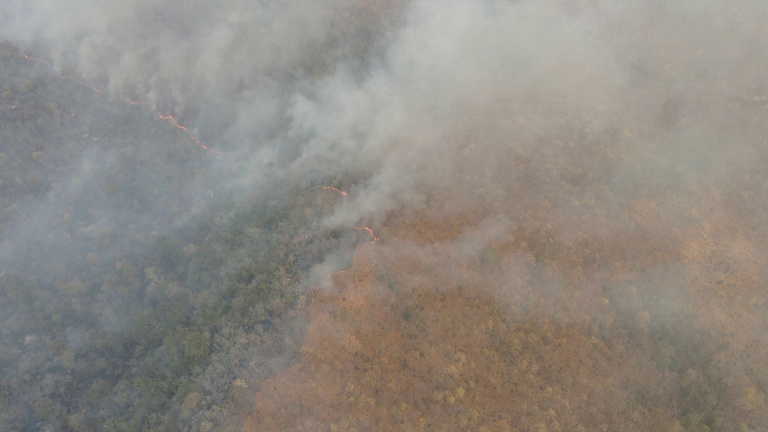fire: (1, 40, 150, 110), (154, 105, 241, 163), (302, 264, 352, 323), (297, 176, 360, 205), (346, 213, 383, 254)
smoke: (285, 1, 653, 193), (1, 1, 310, 200)
